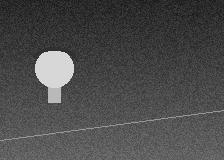no_helmet: (35, 47, 73, 92)
